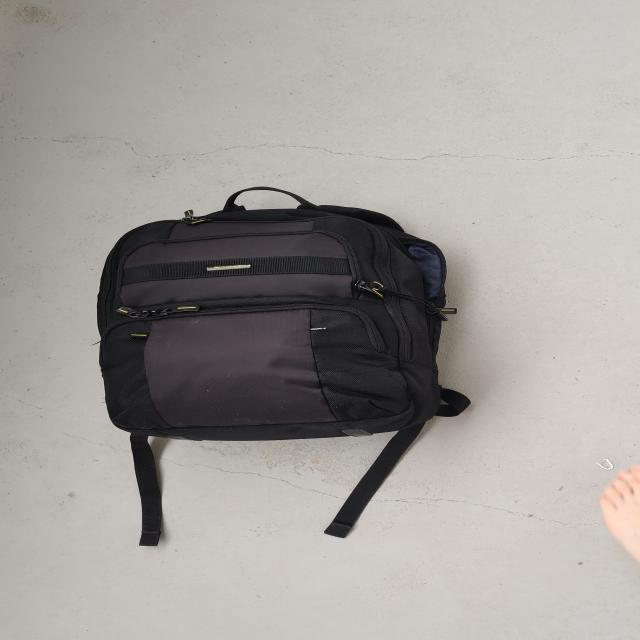backpack: (80, 177, 471, 456)
